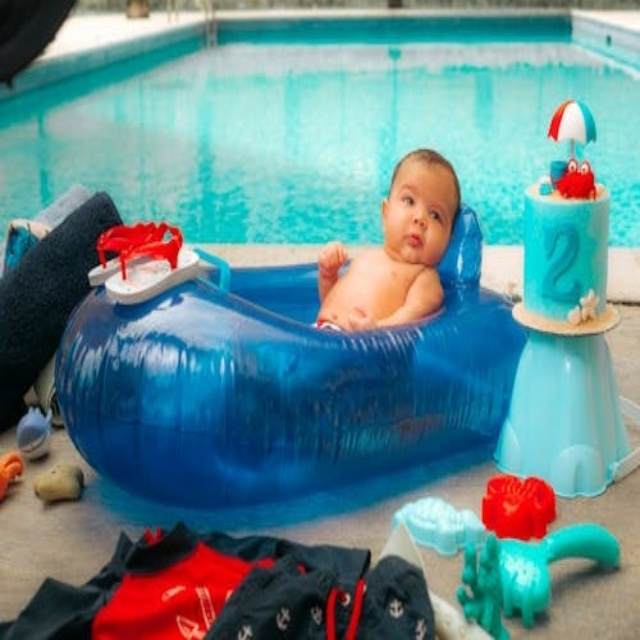Sin_gafas: (399, 180, 447, 226)
Sin_guantes: (315, 230, 351, 278)
Sin_mascara: (398, 222, 428, 251)
